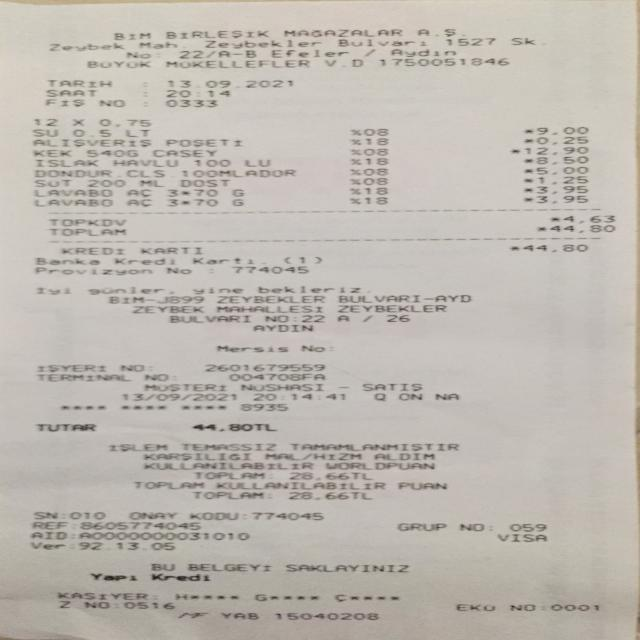text: (78, 529, 249, 541), (215, 480, 385, 490), (143, 461, 313, 470), (289, 442, 457, 451), (74, 520, 200, 532), (165, 59, 308, 68), (284, 562, 408, 572), (32, 138, 151, 148), (34, 266, 152, 276), (33, 169, 164, 178), (122, 392, 235, 402), (168, 79, 292, 88), (256, 284, 364, 294), (204, 39, 321, 48), (378, 58, 508, 66), (182, 169, 295, 178), (324, 461, 434, 470), (142, 452, 250, 461), (204, 363, 324, 371), (79, 541, 175, 551), (283, 28, 402, 36), (275, 611, 378, 620), (252, 392, 344, 402), (337, 37, 425, 47), (336, 304, 446, 312), (216, 295, 324, 303), (222, 372, 330, 380), (36, 373, 129, 382), (216, 304, 320, 312), (182, 442, 274, 451), (165, 30, 267, 38), (240, 382, 321, 392), (56, 592, 145, 601), (143, 382, 223, 392), (230, 265, 308, 275), (187, 562, 273, 571), (191, 422, 275, 431), (165, 138, 240, 148), (337, 294, 420, 303), (289, 471, 372, 480), (168, 314, 248, 323), (251, 510, 322, 520), (269, 48, 347, 57), (86, 285, 164, 294), (34, 256, 97, 267), (48, 41, 122, 50), (388, 46, 454, 56), (151, 148, 216, 158), (198, 470, 262, 480), (191, 256, 254, 266), (134, 480, 203, 489), (34, 189, 111, 197), (33, 198, 110, 206), (48, 218, 125, 226), (360, 382, 421, 392), (113, 256, 173, 266), (84, 59, 150, 68), (112, 158, 177, 167), (130, 305, 203, 313), (34, 363, 107, 371), (151, 572, 209, 582), (47, 79, 111, 88), (165, 89, 229, 98), (215, 344, 287, 352), (34, 158, 97, 167), (60, 246, 123, 255), (192, 491, 261, 499), (252, 323, 312, 332), (374, 452, 434, 461), (48, 228, 124, 235), (521, 244, 587, 252), (146, 295, 204, 304), (165, 98, 217, 108), (99, 118, 150, 128), (240, 402, 286, 413), (525, 146, 588, 154), (445, 36, 495, 46), (44, 88, 94, 98), (86, 148, 136, 158), (139, 246, 201, 254), (397, 522, 446, 532), (35, 423, 95, 431), (190, 510, 238, 520), (498, 532, 546, 542), (106, 443, 164, 451), (548, 225, 614, 232), (129, 510, 175, 520), (535, 185, 586, 194), (123, 600, 174, 609), (179, 178, 229, 187), (91, 572, 136, 582), (312, 452, 361, 461), (397, 481, 446, 490), (535, 156, 589, 164), (534, 166, 588, 174), (292, 491, 346, 499), (282, 255, 324, 265), (192, 286, 244, 294), (536, 195, 587, 203), (563, 215, 614, 223), (537, 176, 588, 184), (536, 136, 587, 144), (537, 126, 587, 134), (30, 529, 66, 540), (509, 522, 545, 533), (550, 603, 599, 611), (72, 128, 111, 138), (42, 98, 85, 107), (31, 520, 66, 531), (416, 26, 454, 36), (138, 40, 175, 50), (33, 148, 70, 158), (35, 284, 68, 295), (29, 540, 64, 550), (112, 30, 149, 39), (87, 178, 124, 187), (194, 158, 230, 167), (33, 178, 69, 187), (456, 603, 494, 611), (72, 510, 102, 520), (107, 295, 140, 304), (221, 611, 258, 619), (325, 58, 361, 66), (436, 294, 470, 302), (165, 265, 191, 275), (31, 128, 58, 137), (243, 158, 270, 167), (177, 48, 201, 58), (144, 372, 168, 382), (458, 522, 482, 532), (149, 562, 173, 572), (263, 452, 297, 459), (124, 50, 150, 59), (32, 510, 58, 519), (511, 36, 534, 46), (99, 98, 124, 107), (124, 128, 149, 137), (34, 117, 56, 127), (120, 362, 142, 372), (139, 178, 163, 187), (178, 611, 205, 619), (194, 188, 216, 197), (126, 189, 150, 197), (126, 198, 150, 206), (362, 177, 386, 185), (400, 392, 419, 402), (437, 392, 456, 402), (363, 157, 390, 164), (192, 198, 215, 206), (83, 600, 106, 608), (361, 168, 387, 175), (386, 314, 408, 322), (510, 603, 532, 611), (264, 314, 285, 322), (364, 128, 387, 135), (364, 187, 386, 194), (364, 196, 386, 203), (351, 491, 368, 500), (304, 314, 323, 322), (300, 344, 320, 351), (364, 148, 386, 154), (217, 48, 230, 58), (363, 47, 374, 57), (374, 392, 385, 402), (175, 592, 186, 602), (254, 592, 265, 602), (205, 48, 215, 58), (231, 48, 241, 58), (244, 48, 254, 58), (335, 592, 345, 602), (349, 137, 360, 146), (349, 157, 360, 166), (523, 156, 534, 165), (347, 168, 361, 175), (336, 314, 348, 322), (348, 187, 361, 194), (348, 198, 361, 205), (179, 40, 188, 50), (73, 118, 83, 127), (232, 188, 242, 197), (349, 177, 360, 185), (58, 600, 69, 608), (347, 148, 361, 154), (167, 188, 176, 197), (166, 198, 176, 206), (232, 198, 242, 206), (523, 184, 531, 194), (522, 195, 532, 203), (550, 215, 560, 223), (536, 225, 546, 233), (508, 244, 518, 252), (362, 314, 372, 322), (338, 382, 346, 392), (522, 136, 530, 145), (522, 126, 530, 134), (269, 471, 276, 480), (238, 510, 244, 520), (150, 591, 156, 601), (524, 167, 534, 173), (180, 190, 190, 196), (520, 178, 533, 182), (180, 200, 190, 205), (349, 128, 356, 135), (426, 294, 432, 302), (290, 314, 296, 322), (510, 146, 515, 154), (266, 491, 271, 499), (488, 522, 492, 532), (112, 600, 116, 608), (540, 603, 544, 611)
